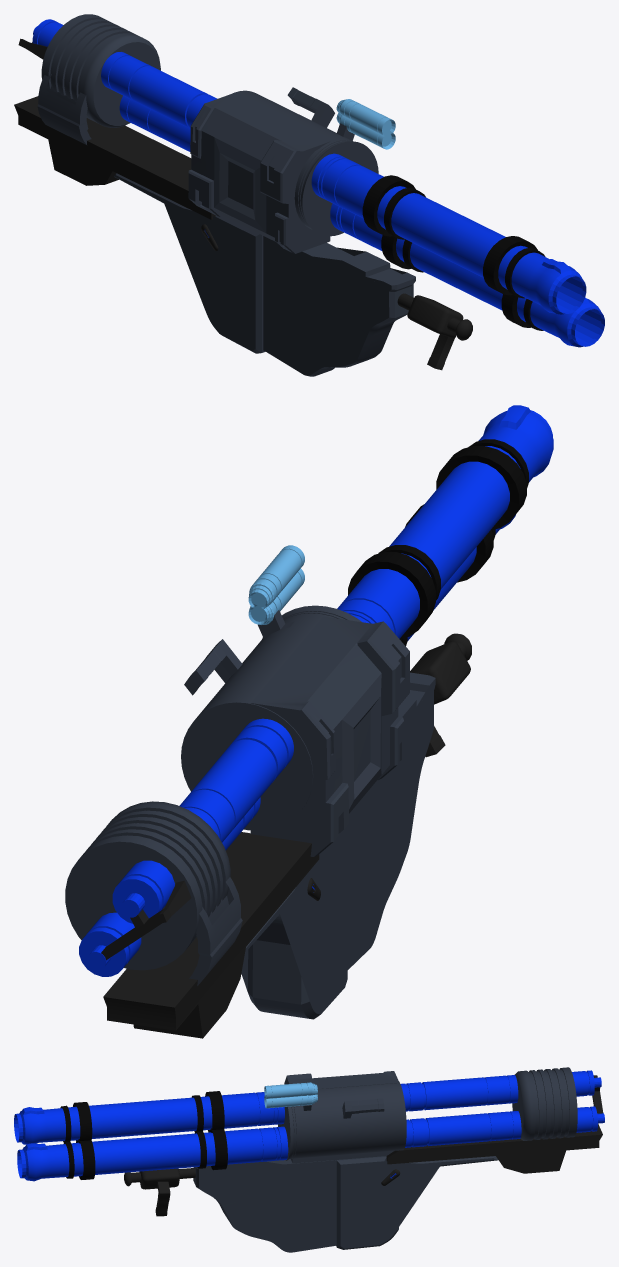
The model's file is rocket.obj.
3 views of the same model, one above another, from view 1: azimuth 30°, elevation 25°; view 2: azimuth 150°, elevation 25°; view 3: azimuth 270°, elevation 25° (orthographic). The views are drawn at different scales.
Parts seen in each view (by area): view 1: Object001, Cylinder001, Box001, Line002, Box002, Cylinder002, Cylinder006, Cylinder003, Cylinder004, Box004, Cylinder010, Cylinder005 (+3 smaller); view 2: Box001, Cylinder001, Cylinder006, Box002, Cylinder003, Line002, Object001, Cylinder004, Cylinder010, Cylinder008, Box004, Cylinder007 (+3 smaller); view 3: Object001, Cylinder002, Cylinder001, Cylinder003, Line002, Box002, Cylinder006, Cylinder005, Cylinder004, Box001, Cylinder010, ChamferBox004 (+4 smaller).
Part boxes in pixels (x1,y1,x2,y2): Object001: (263, 236, 415, 376); Cylinder001: (311, 153, 586, 314); Box001: (188, 93, 330, 253); Line002: (114, 173, 265, 353); Box002: (14, 96, 215, 219); Cylinder002: (330, 203, 604, 347); Cylinder006: (41, 14, 160, 127); Cylinder003: (233, 87, 378, 236); Cylinder004: (101, 52, 217, 128); Box004: (37, 73, 91, 144); Cylinder010: (336, 99, 395, 149); Cylinder005: (119, 95, 190, 151); Box001: (250, 616, 409, 856); Cylinder001: (337, 405, 553, 639); Cylinder006: (65, 801, 230, 970); Box002: (103, 832, 319, 1038); Cylinder003: (181, 605, 361, 830); Line002: (241, 825, 347, 1019); Object001: (347, 672, 435, 969); Cylinder004: (179, 718, 293, 842); Cylinder010: (248, 545, 304, 624); Cylinder008: (112, 860, 174, 923); Box004: (189, 877, 242, 985); Cylinder007: (79, 912, 141, 976); Object001: (193, 1159, 336, 1252); Cylinder002: (17, 1126, 288, 1181); Cylinder001: (14, 1091, 284, 1144); Cylinder003: (278, 1081, 406, 1160); Line002: (336, 1156, 498, 1249); Box002: (386, 1124, 602, 1173); Cylinder006: (512, 1067, 577, 1140); Cylinder005: (405, 1111, 521, 1147); Cylinder004: (400, 1075, 518, 1111); Box001: (284, 1071, 399, 1163); Cylinder010: (264, 1082, 317, 1108); ChamferBox004: (139, 1168, 180, 1189).
Bounding box in the file's own units: 5.32 × 6.47 × 19.
